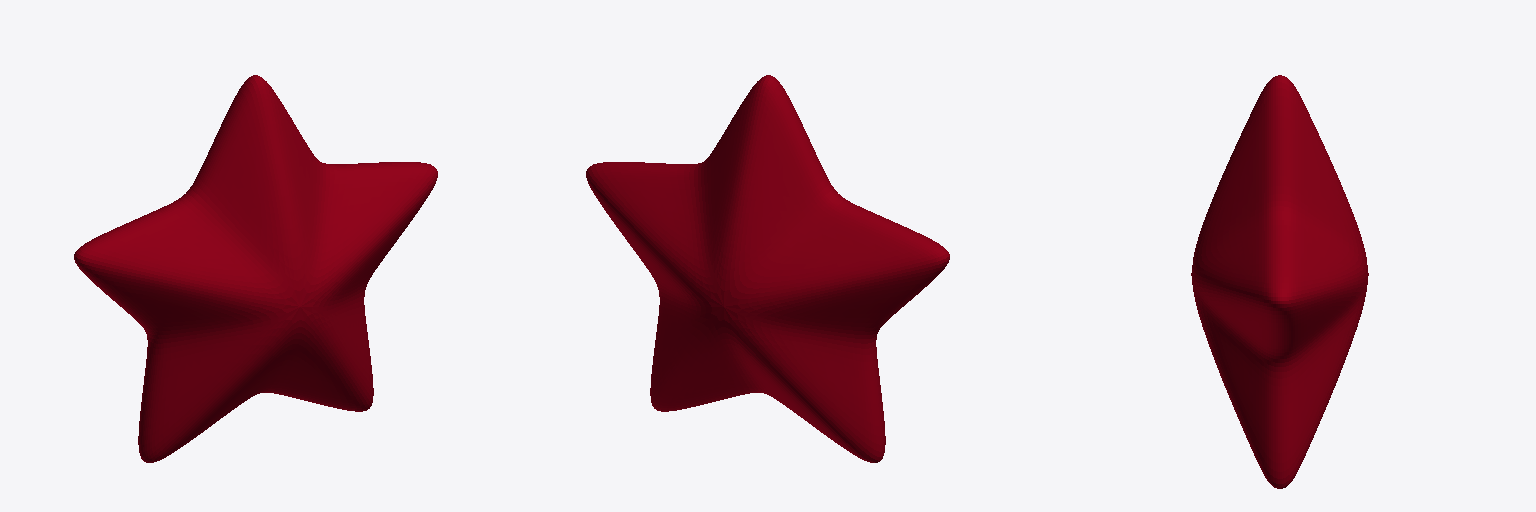
File: star.obj
3 views of the same model, side by side, from view 1: azimuth 30°, elevation 25°; view 2: azimuth 150°, elevation 25°; view 3: azimuth 270°, elevation 25° (orthographic).
Parts seen in each view (by area): view 1: Star_Circle.001; view 2: Star_Circle.001; view 3: Star_Circle.001.
Part boxes in pixels (left/top/right/bottom): Star_Circle.001: left=74, top=75, right=437, bottom=462; Star_Circle.001: left=586, top=75, right=949, bottom=462; Star_Circle.001: left=1191, top=75, right=1368, bottom=488.
Size of the model in its own units: 1.98 by 1.89 by 0.841.